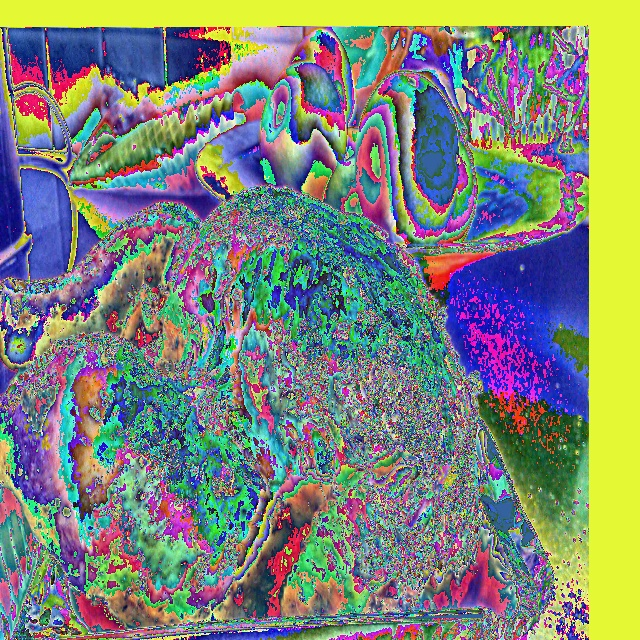background: (0, 26, 589, 629), (68, 88, 247, 194)
